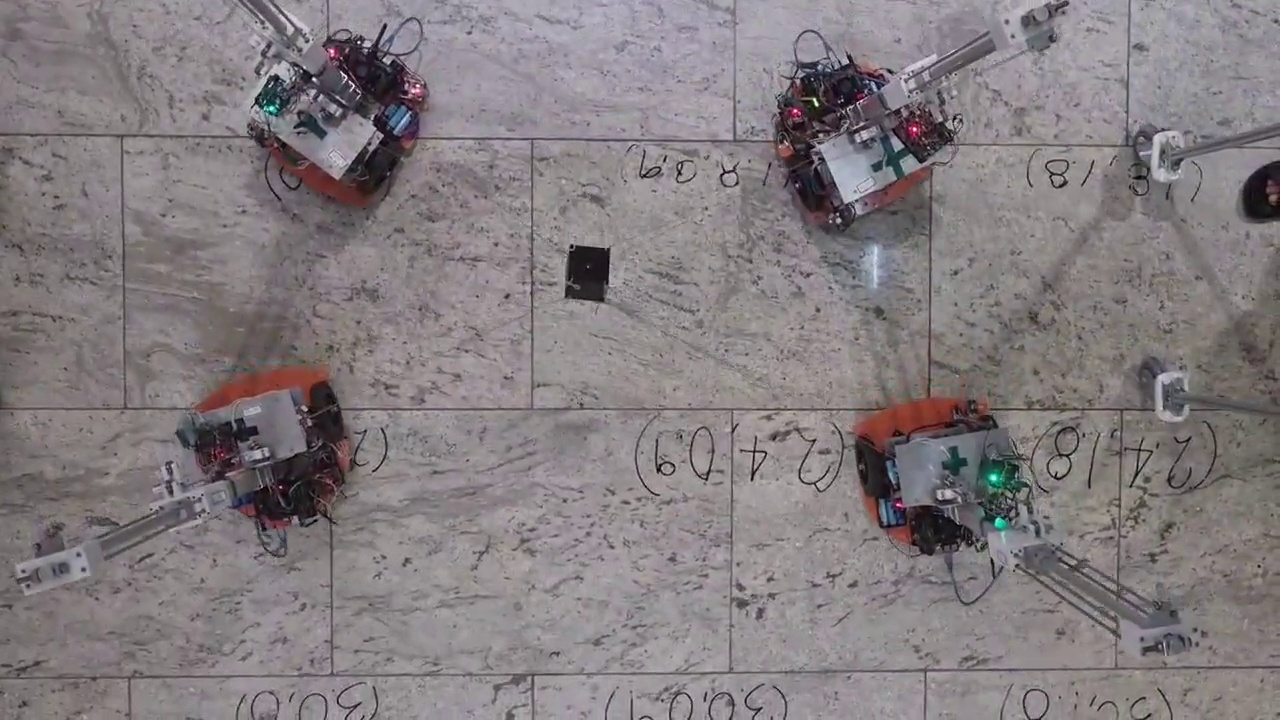e0: (564, 243, 611, 303)
r1: (854, 413, 1007, 493)
r2: (786, 102, 940, 212)
r3: (253, 70, 403, 193)
r4: (192, 381, 345, 483)
y_+_axis_vector: (532, 670, 925, 675)
y_-_axis_vector: (129, 674, 532, 678)
